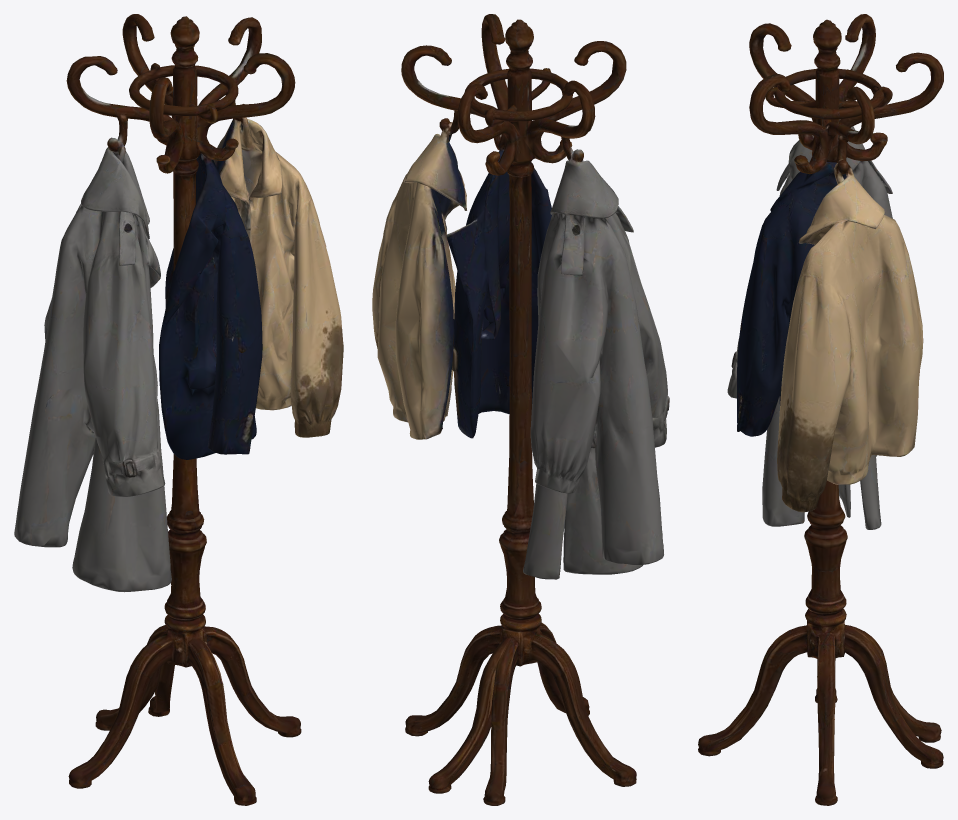
Rendered from rack_a.glb.
The picture shows the model from 3 angles, left to right: view 1: azimuth 30°, elevation 25°; view 2: azimuth 150°, elevation 25°; view 3: azimuth 270°, elevation 25°; orthographic projection.
Bounding box in the file's own units: 0.8134 × 1.9 × 0.5798.
1 material, 1 textured.
